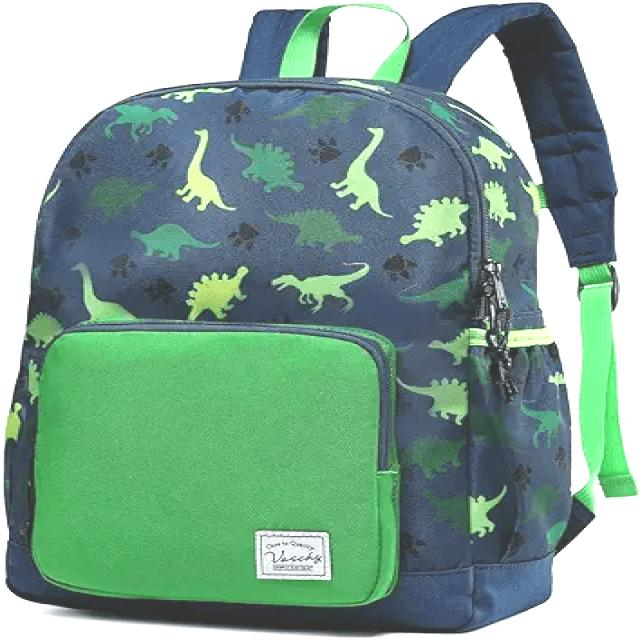backpack: (1, 1, 640, 639)
